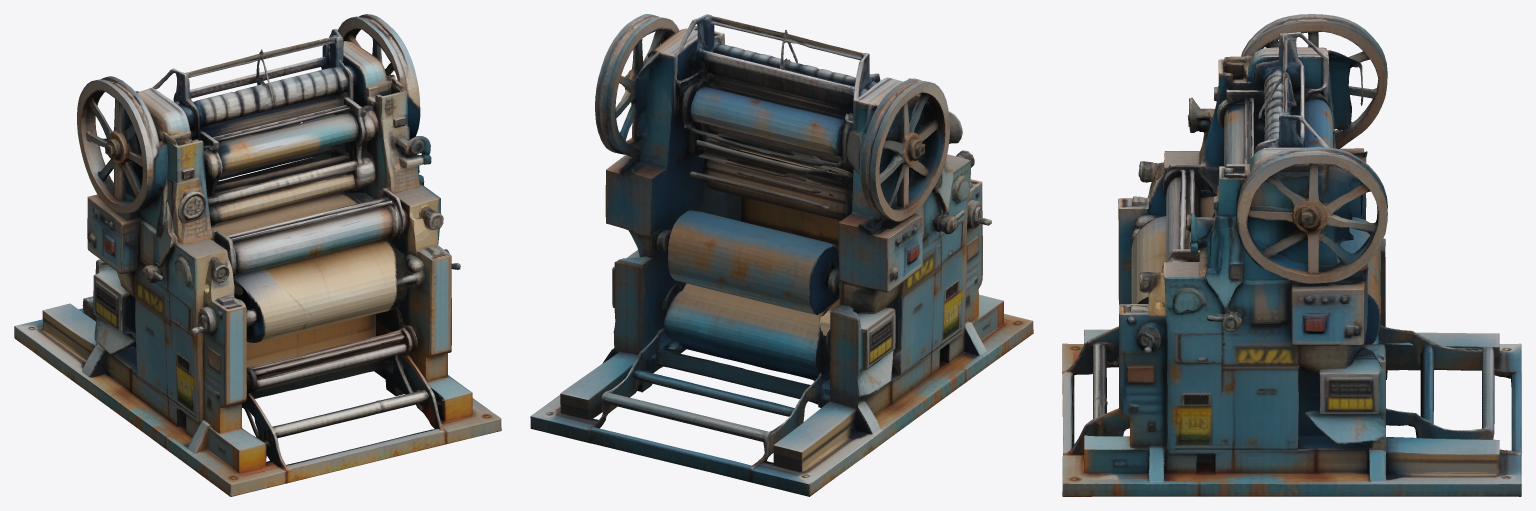
3 renders of one model, left to right at view 1: azimuth 30°, elevation 25°; view 2: azimuth 150°, elevation 25°; view 3: azimuth 270°, elevation 25°, orthographic. The views are drawn at different scales.
Parts seen in each view (by area): view 1: world; view 2: world; view 3: world.
Part boxes in pixels (<box>): world: <box>14,14,501,496</box>; world: <box>530,14,1033,496</box>; world: <box>1062,14,1521,496</box>.
Size of the model in its own units: 0.761 by 0.8618 by 1.
1 material, 1 textured.
